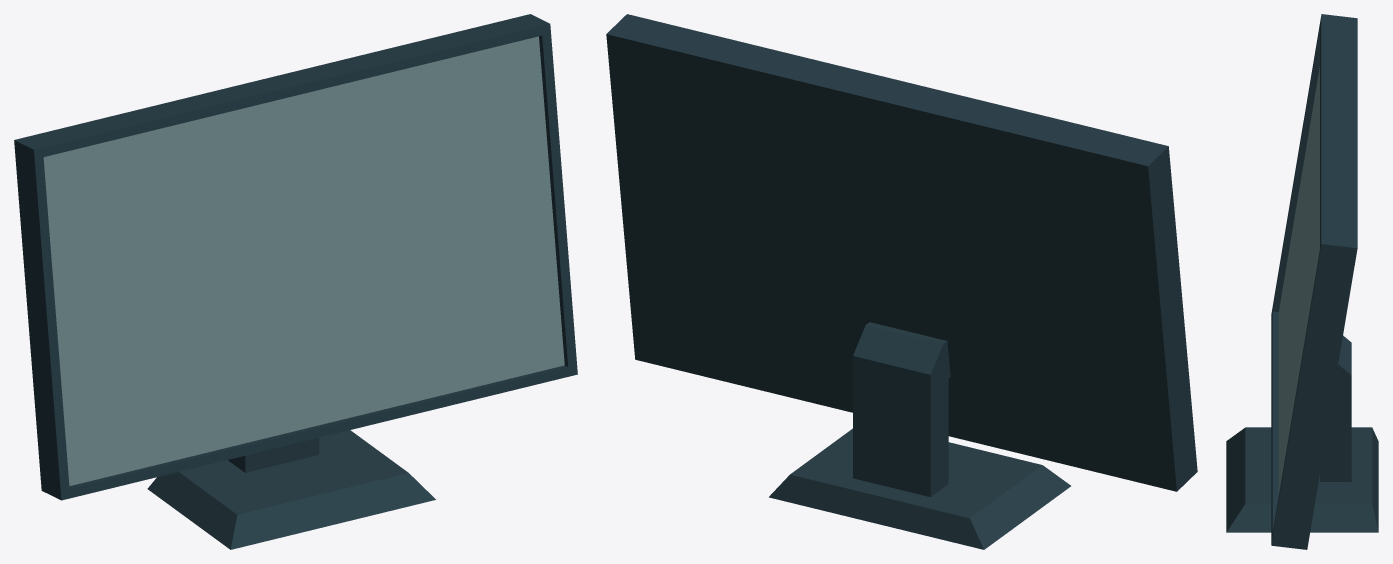
The model's file is Monitor.glb.
3 renders of one model, left to right at view 1: azimuth 30°, elevation 25°; view 2: azimuth 150°, elevation 25°; view 3: azimuth 270°, elevation 25°, orthographic. The views are drawn at different scales.
Parts seen in each view (by area): view 1: computerScreen(Clone); view 2: computerScreen(Clone); view 3: computerScreen(Clone).
Part boxes in pixels (x1=…): computerScreen(Clone): x1=14, y1=14, x2=577, y2=549; computerScreen(Clone): x1=606, y1=14, x2=1197, y2=549; computerScreen(Clone): x1=1226, y1=14, x2=1378, y2=549.
Size of the model in its own units: 0.68 by 0.5 by 0.19.
